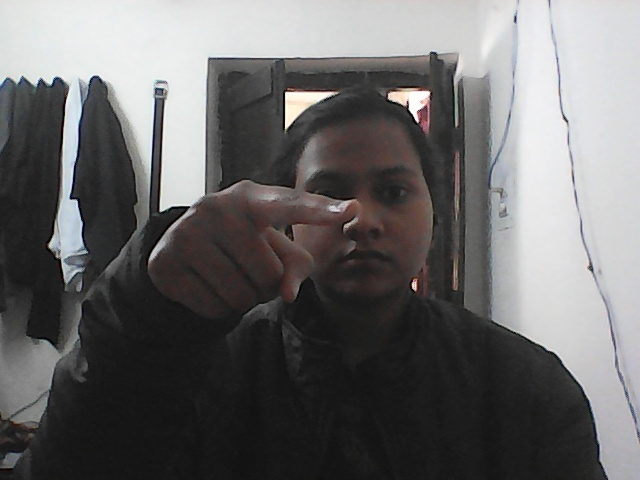You: (126, 130, 409, 369)
